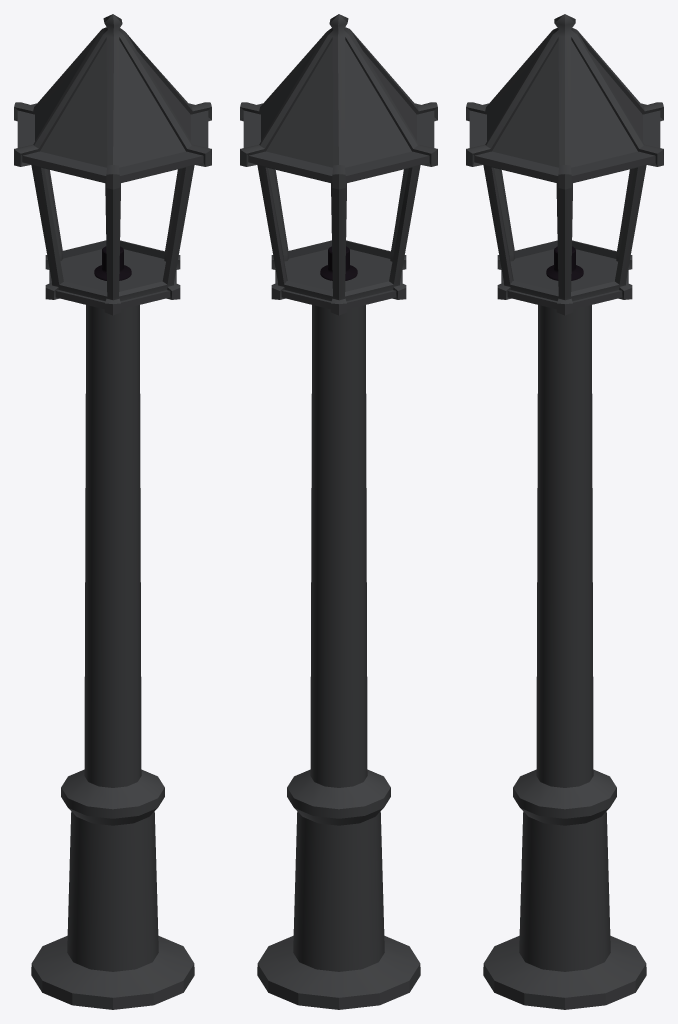
Rendered from M_Sem04_Prop_Lantern_LODs_SBoewing.fbx.
The picture shows the model from 3 angles, left to right: view 1: azimuth 30°, elevation 25°; view 2: azimuth 150°, elevation 25°; view 3: azimuth 270°, elevation 25°; orthographic projection.
Parts seen in each view (by area): view 1: lantern_LOD0; view 2: lantern_LOD0; view 3: lantern_LOD0.
Part boxes in pixels (x1,y1,x2,y2): lantern_LOD0: [14, 14, 211, 1009]; lantern_LOD0: [240, 14, 437, 1009]; lantern_LOD0: [466, 14, 663, 1009].
Size of what is drawn, in the model's own units: 62.31 by 289 by 53.96.
